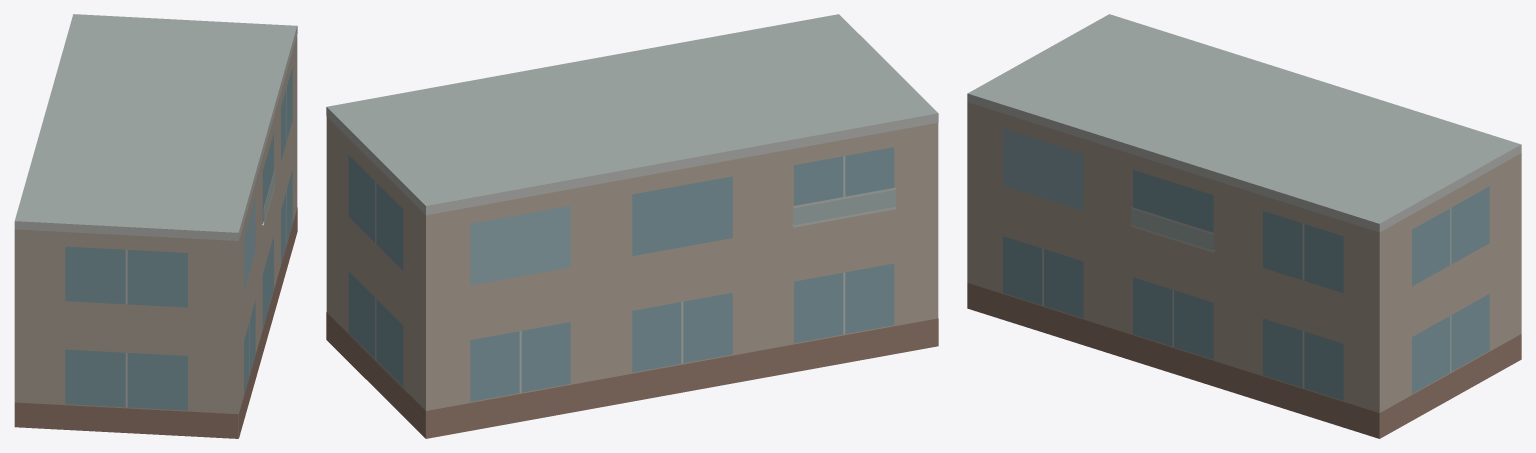
The model's file is survey-upis-32711838.glb.
3 views of the same model, side by side, from view 1: azimuth 30°, elevation 25°; view 2: azimuth 150°, elevation 25°; view 3: azimuth 270°, elevation 25° (orthographic). The views are drawn at different scales.
Parts seen in each view (by area): view 1: survey-upis-32711838.tmp; view 2: survey-upis-32711838.tmp; view 3: survey-upis-32711838.tmp.
Boxes of the visible parts, x1,y1,x2,y2 form: survey-upis-32711838.tmp: [14, 14, 297, 438]; survey-upis-32711838.tmp: [326, 14, 938, 438]; survey-upis-32711838.tmp: [967, 14, 1521, 438].
Bounding box in the file's own units: 12.78 × 6.1 × 14.26.
